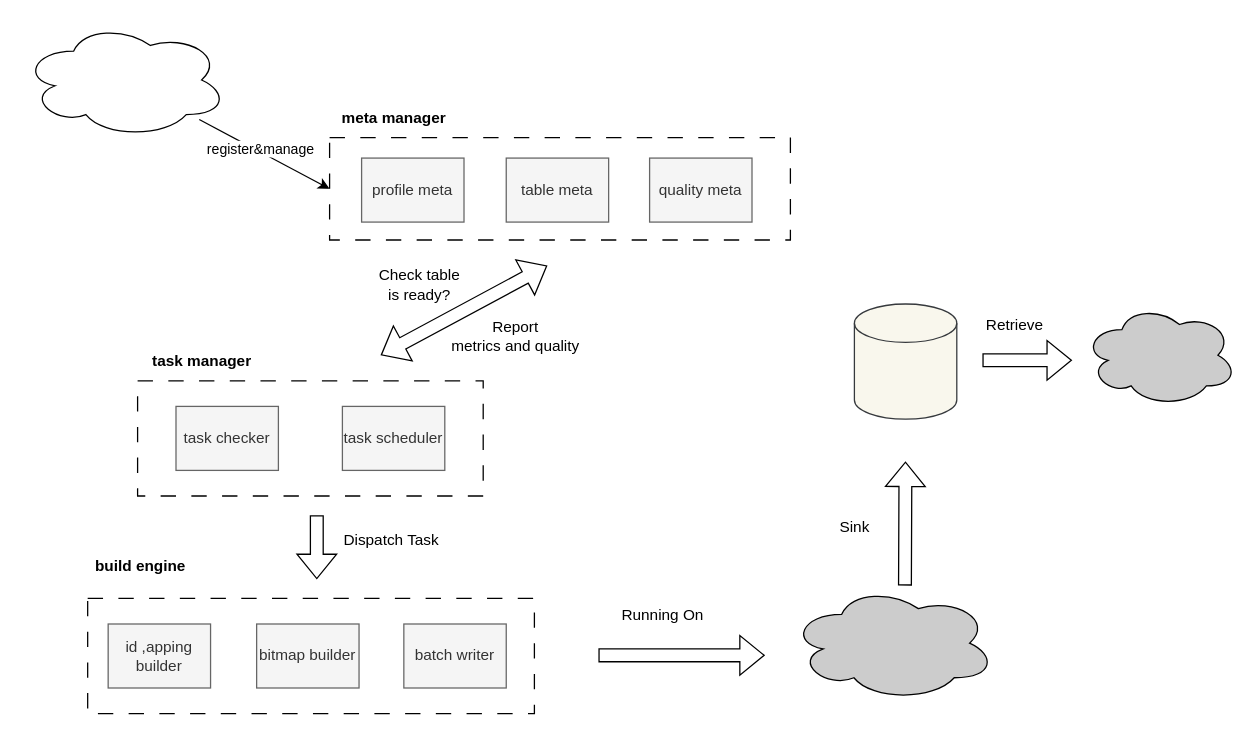
This 1260x736 diagram has some shape labels left out. The centre of each missing label's shape, as x and y in pixels:
distributed bitmap: (x=905, y=361)
Online Service: (x=1159, y=354)
Spark Cluster: (x=892, y=642)
upstream table & profile meta: (x=124, y=79)
